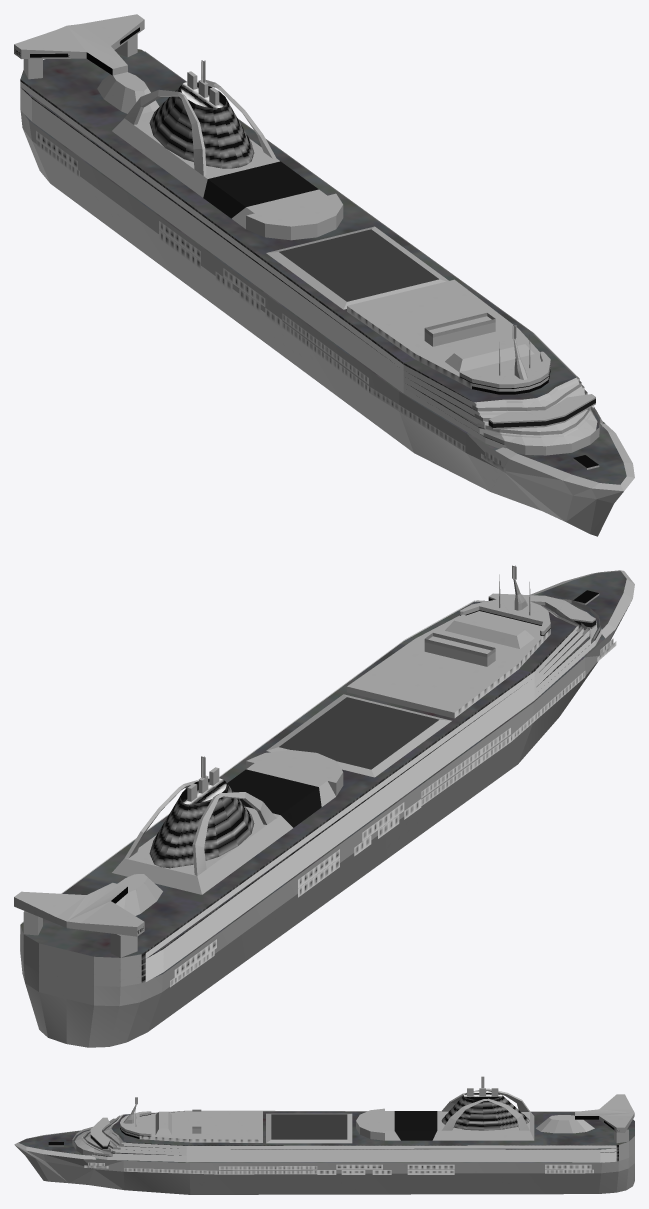
The model's file is GrandPrincess.fbx.
3 renders of one model, top to bottom at view 1: azimuth 30°, elevation 25°; view 2: azimuth 150°, elevation 25°; view 3: azimuth 270°, elevation 25°, orthographic. The views are drawn at different scales.
Parts seen in each view (by area): view 1: GrandPrincess; view 2: GrandPrincess; view 3: GrandPrincess.
Part boxes in pixels (left/top/right/bottom): GrandPrincess: left=14, top=14, right=634, bottom=536; GrandPrincess: left=14, top=565, right=634, bottom=1047; GrandPrincess: left=14, top=1076, right=634, bottom=1194.
Size of the model in its own units: 42.52 by 53.59 by 290.
Materials: 1 (1 with a texture image).
